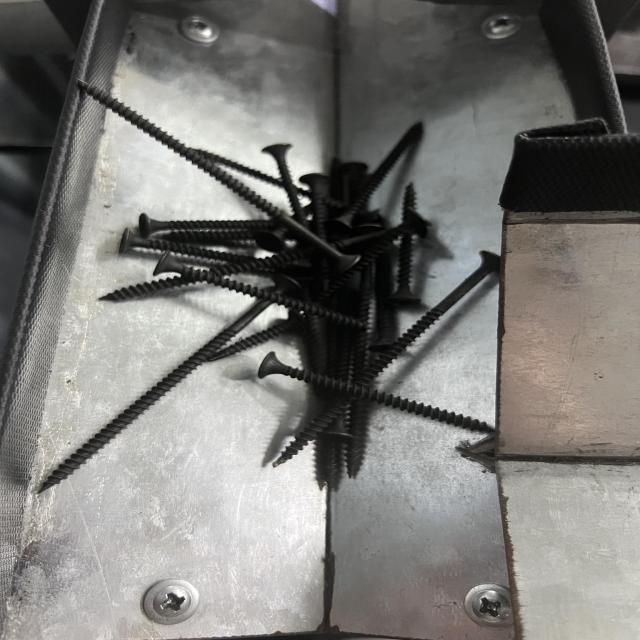screw: (36, 274, 304, 491), (75, 74, 363, 273), (258, 350, 500, 435)
